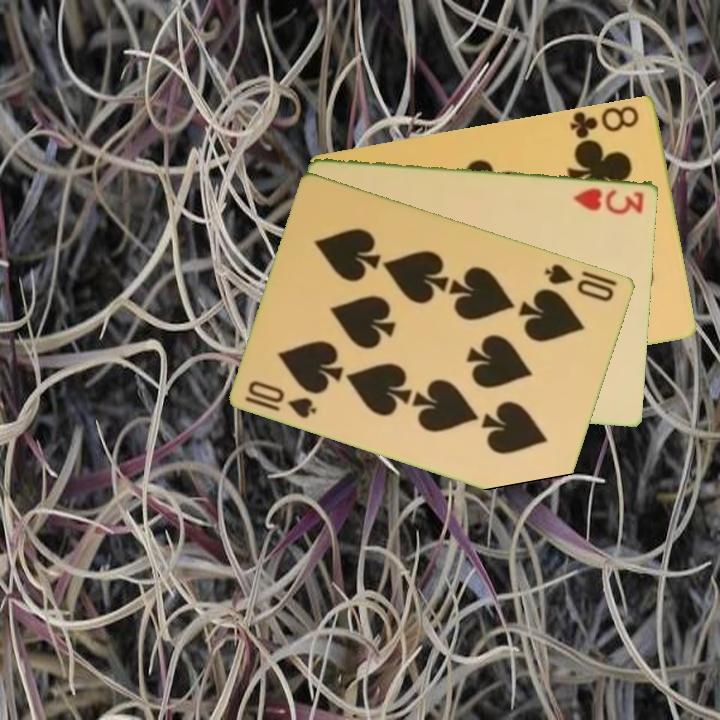10s: (242, 376, 320, 421), (541, 260, 617, 304)
3h: (570, 183, 647, 216)
8c: (567, 101, 642, 145)
